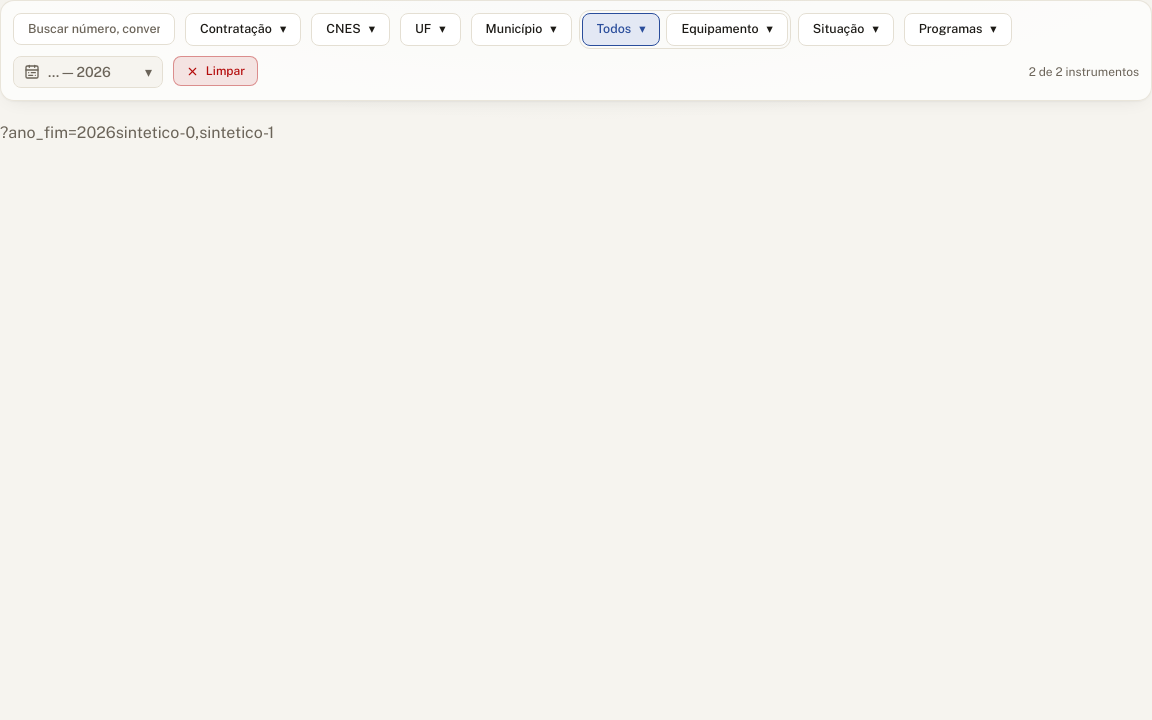
Test case: Filtros reais do monitoramento e URL › mantém o limite compatível e permite limpar apenas um ano
Click the button "… — 2026 ▾" at (88, 72), box [13,56,163,88]
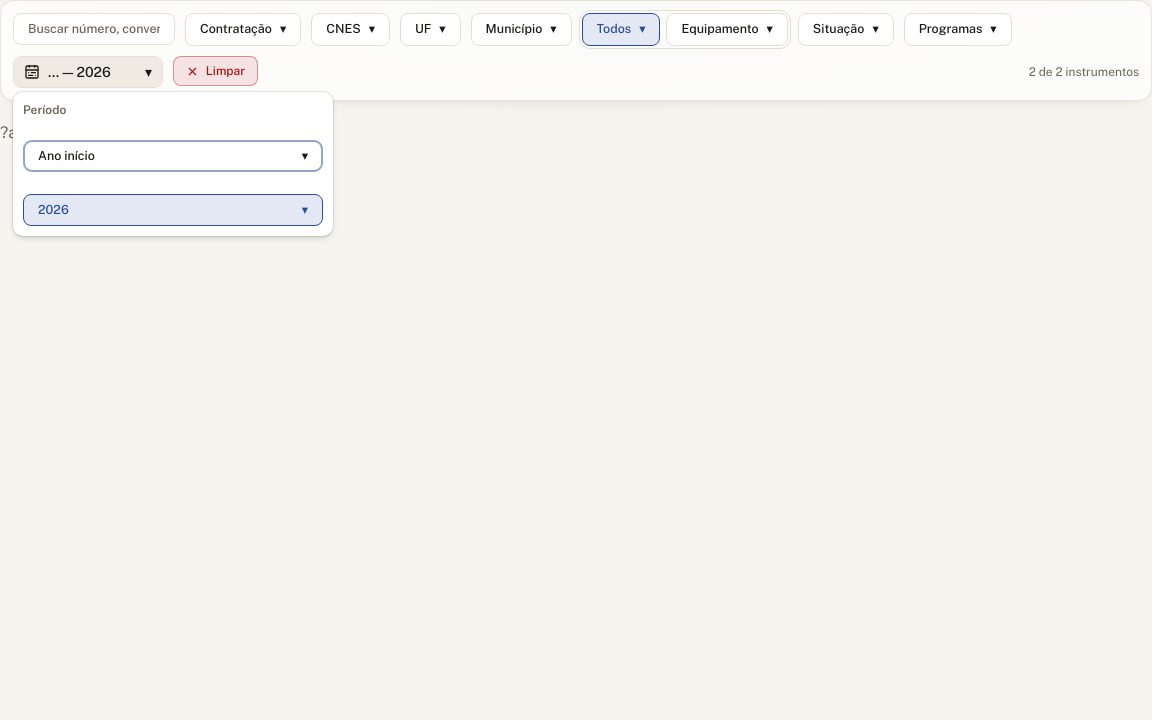
Click the button "Ano início ▾" at (66, 156), box [23,140,323,172]
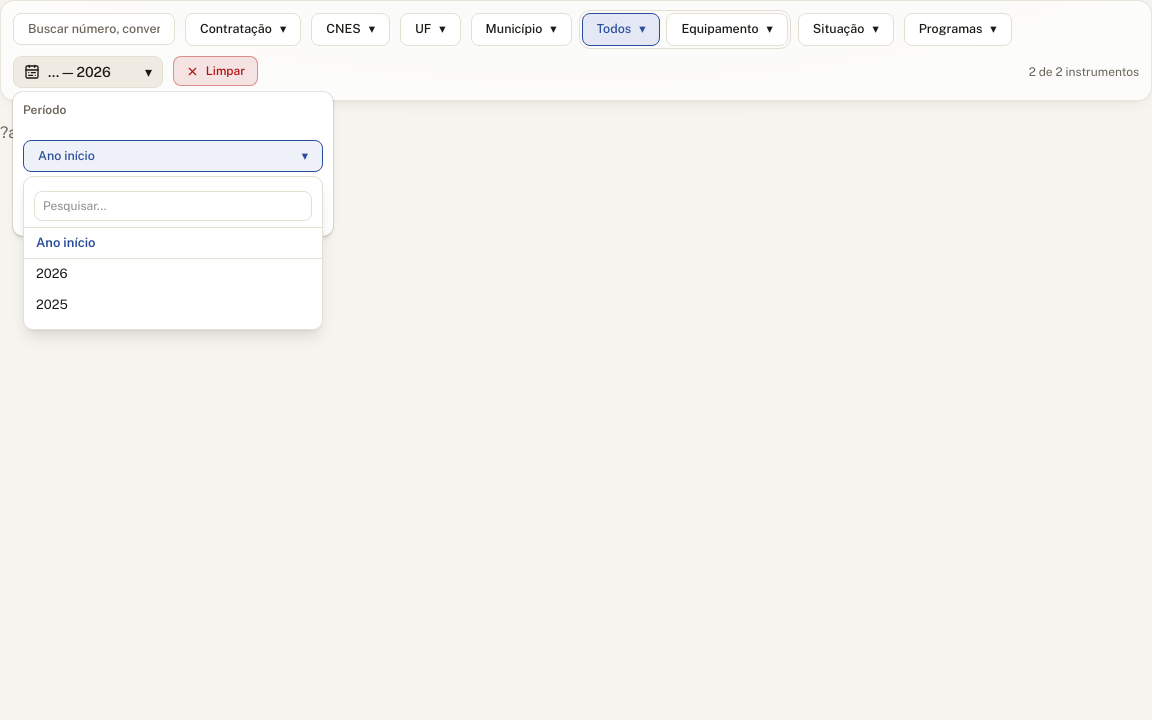
Click the option "2025" at (52, 304), box [24,290,322,321]
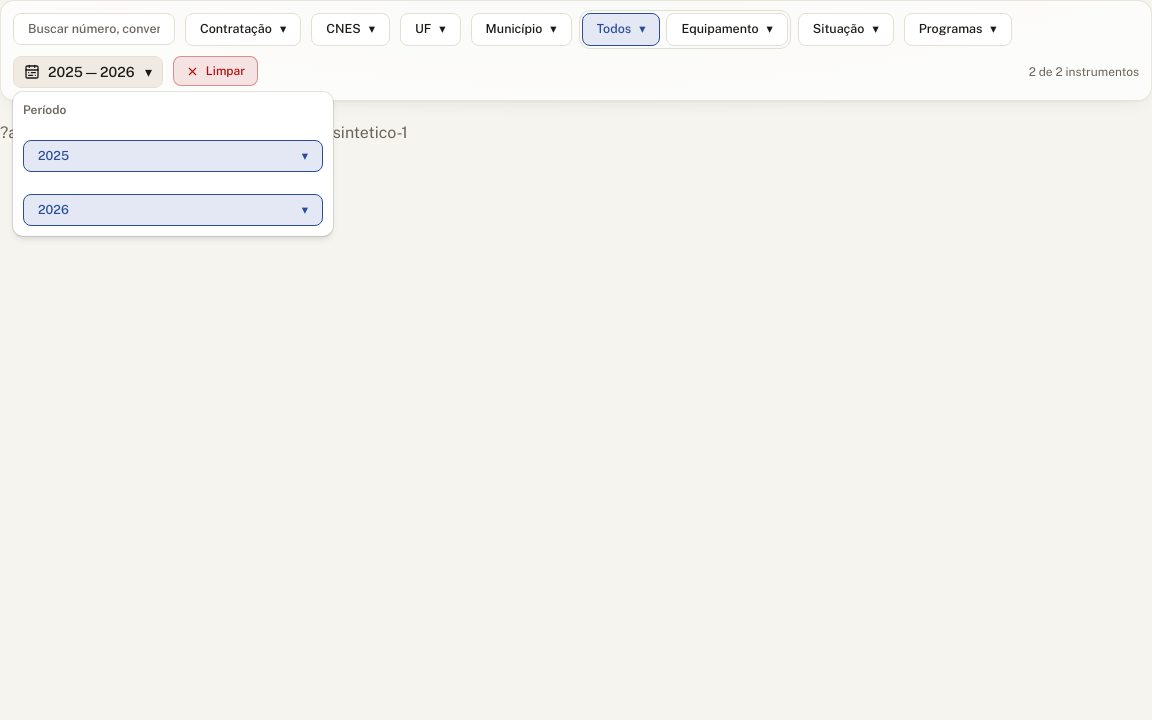
Expected: the text named "URL" shows "ano_inicio=2025", [0,123,249,142]
Expected: the text named "URL" shows "ano_fim=2026", [0,123,249,142]
Click the button named "2025▾" at (54, 156), box [23,140,323,172]
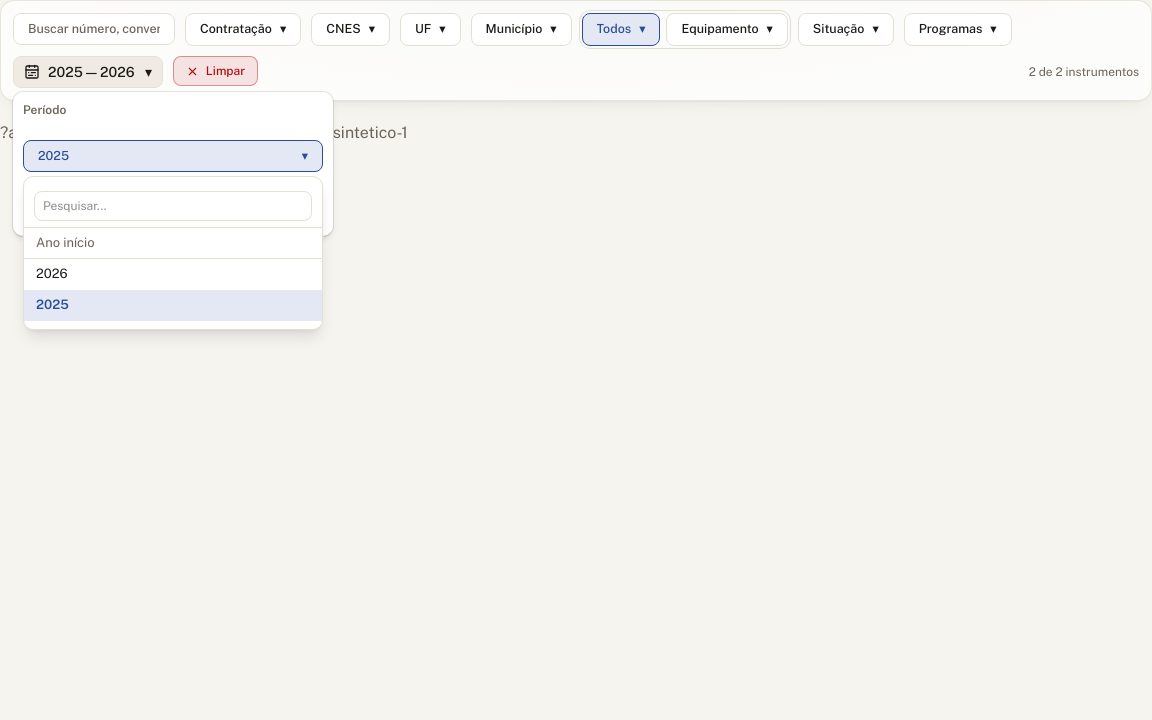
Click the option "Ano início" at (65, 242), box [24,228,322,259]
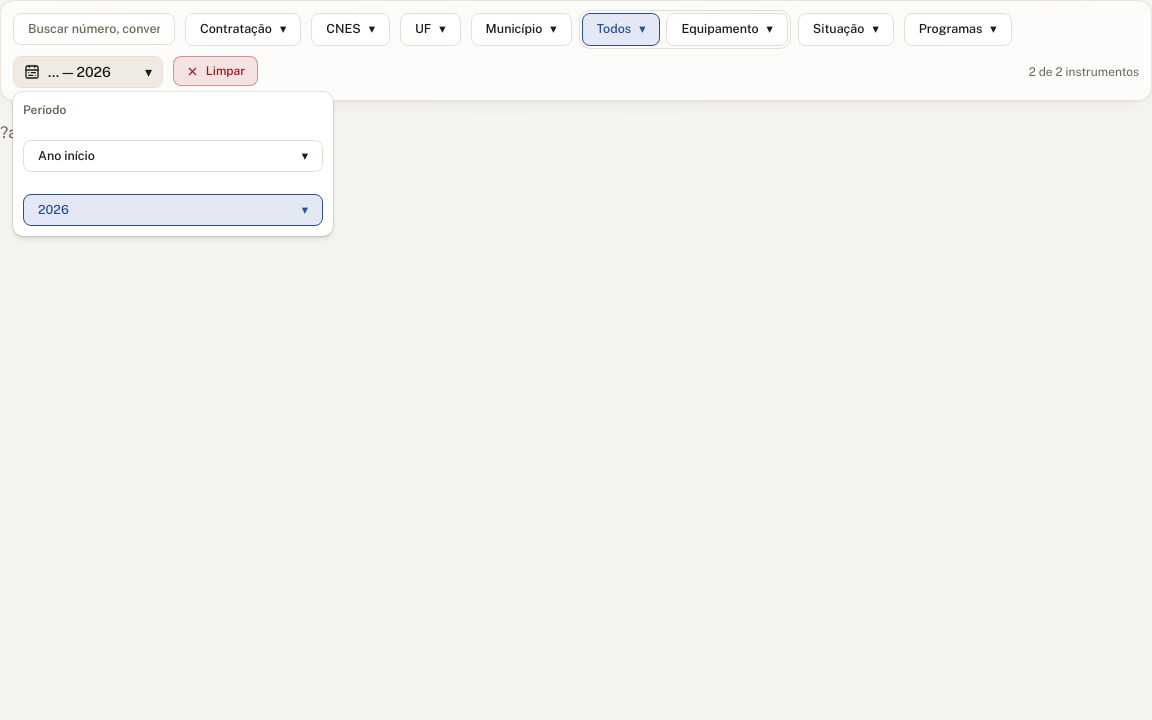
Expected: the text named "URL" shows "ano_fim=2026", [0,123,116,142]
Expected: the text named "URL" no longer shows "ano_inicio=", [0,123,116,142]
